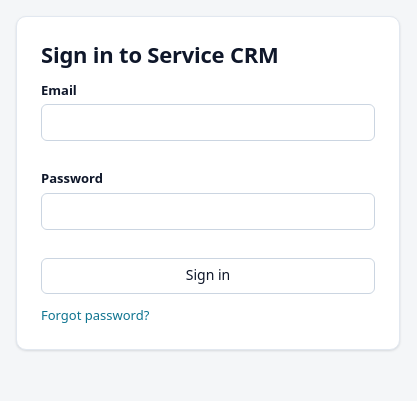
Test: shows the generic error on failed login
The width and height of the screenshot is (417, 401).
Type "owner@example.com" into the field labelled "Email". click: (208, 122)
box: 41,104 -> 375,141
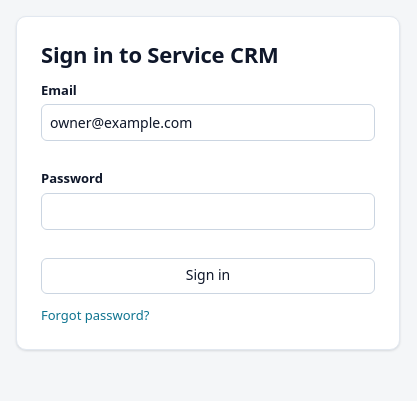
Type "correct horse battery staple" into the password field labelled "Password". click: (208, 211)
box: 41,192 -> 375,230
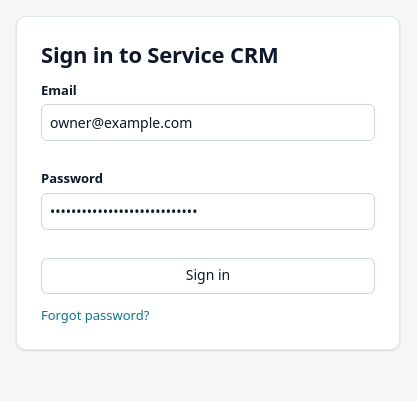
Click the button "Sign in". click: (208, 276)
box: 41,258 -> 375,294
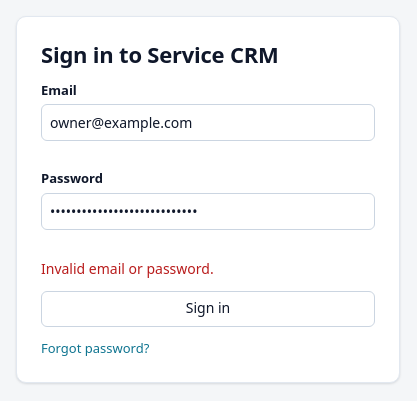
Now the message reads "Invalid email or password.", box 41,258 -> 214,278
